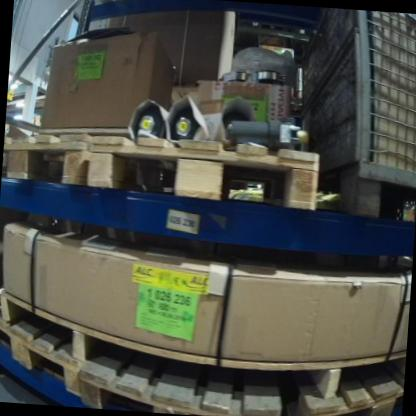pallet: (84, 132, 317, 211), (79, 348, 284, 416), (0, 306, 86, 398), (281, 360, 405, 416), (2, 126, 87, 183)
stillage: (290, 7, 416, 221)
